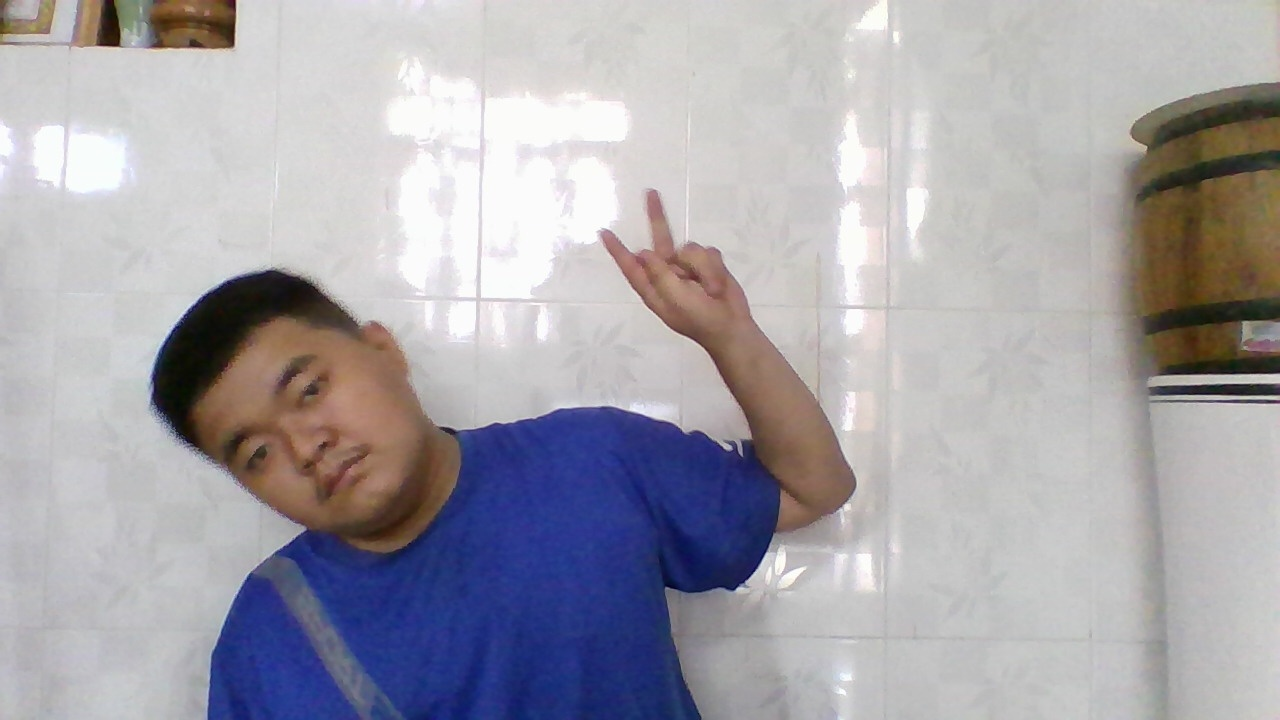K: (587, 177, 748, 339)
